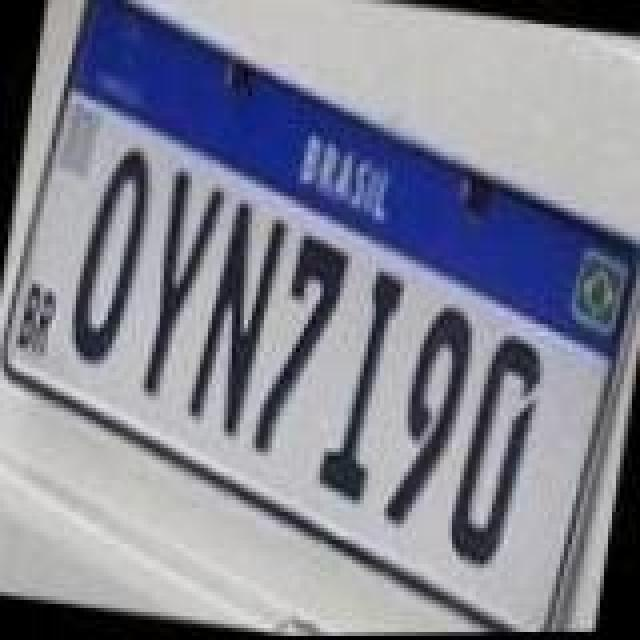7: (252, 230, 356, 466)
9: (380, 304, 480, 536)
D: (440, 332, 548, 576)
I: (310, 266, 406, 510)
N: (182, 198, 290, 442)
O: (66, 144, 162, 372)
Y: (138, 166, 230, 402)
